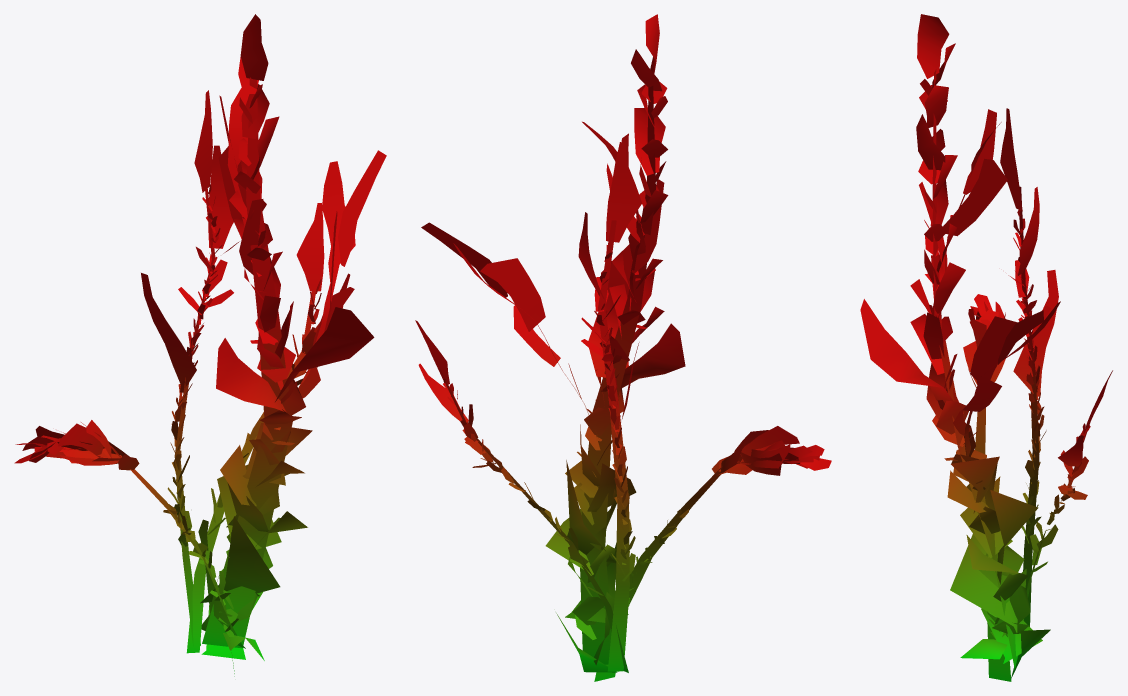
Rendered from Myricaria_LOD1_Var3_tfbldaor.fbx.
3 views of the same model, side by side, from view 1: azimuth 30°, elevation 25°; view 2: azimuth 150°, elevation 25°; view 3: azimuth 270°, elevation 25° (orthographic). The views are drawn at different scales.
Parts seen in each view (by area): view 1: _120f_Var3_LOD1; view 2: _120f_Var3_LOD1; view 3: _120f_Var3_LOD1.
Part boxes in pixels (x1=…): _120f_Var3_LOD1: x1=14, y1=14, x2=386, y2=676; _120f_Var3_LOD1: x1=415, y1=14, x2=831, y2=681; _120f_Var3_LOD1: x1=860, y1=14, x2=1112, y2=681.
Bounding box in the file's own units: 46.47 × 75.54 × 26.3.
